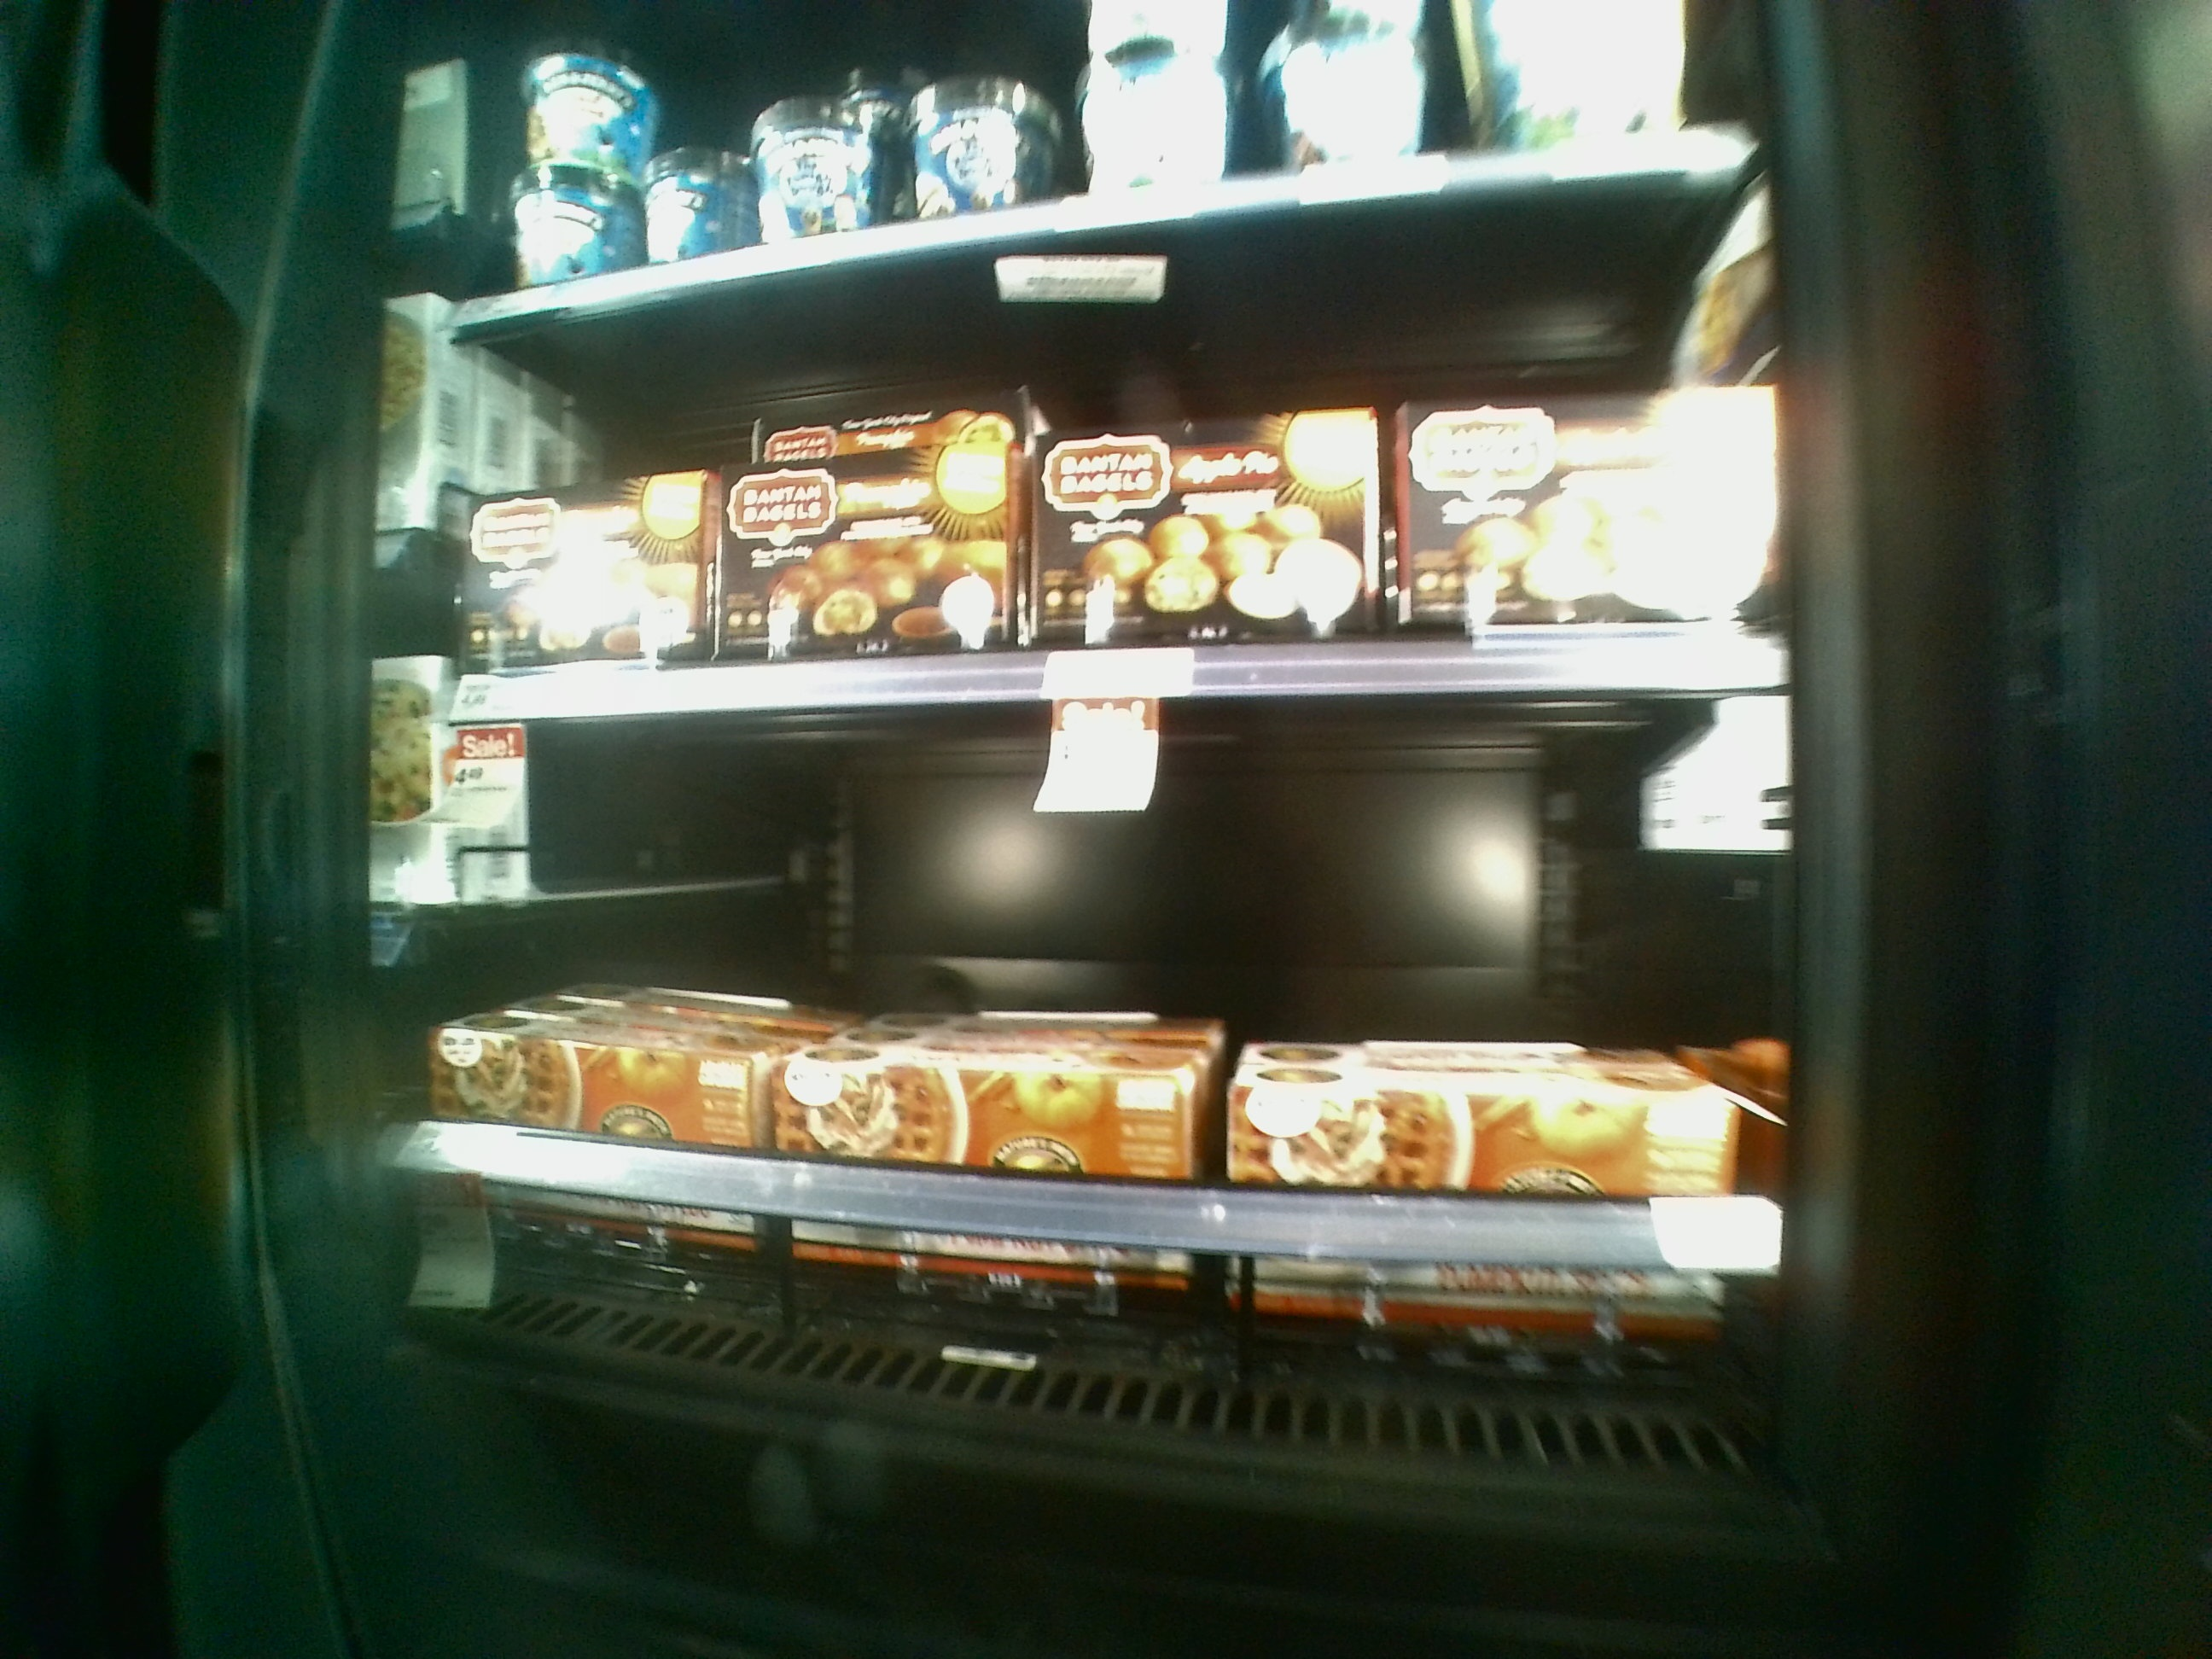shelf: (427, 655, 1791, 1502), (432, 249, 1797, 701)
